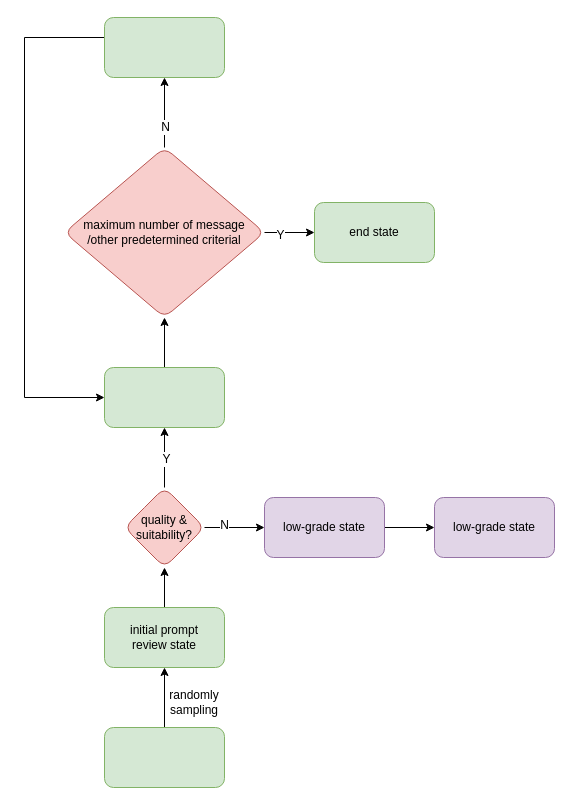
This 572x805 diagram has some shape labels left out. The shapes that lost their labels are listed below. From the top down, each one's centre as x and y in pixels, then its label:
pixel 164 47: replies/labels /rankings
pixel 164 397: growing state
pixel 164 757: pool of prompts
